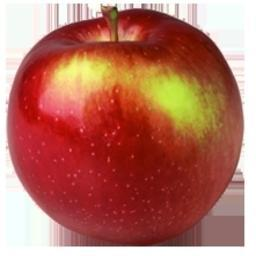apple: (5, 8, 244, 242)
